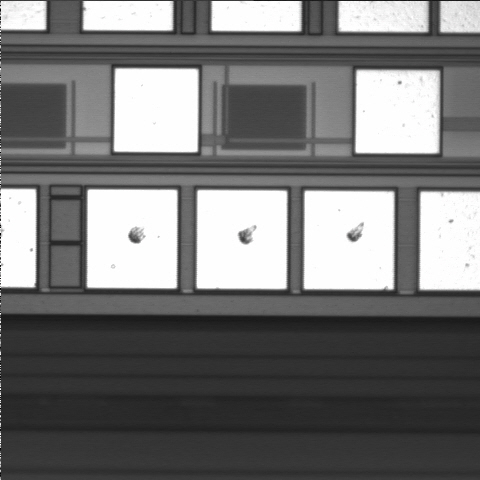pad: (197, 190, 287, 289), (87, 190, 177, 288), (304, 191, 394, 289), (114, 69, 198, 152), (356, 70, 439, 153)
